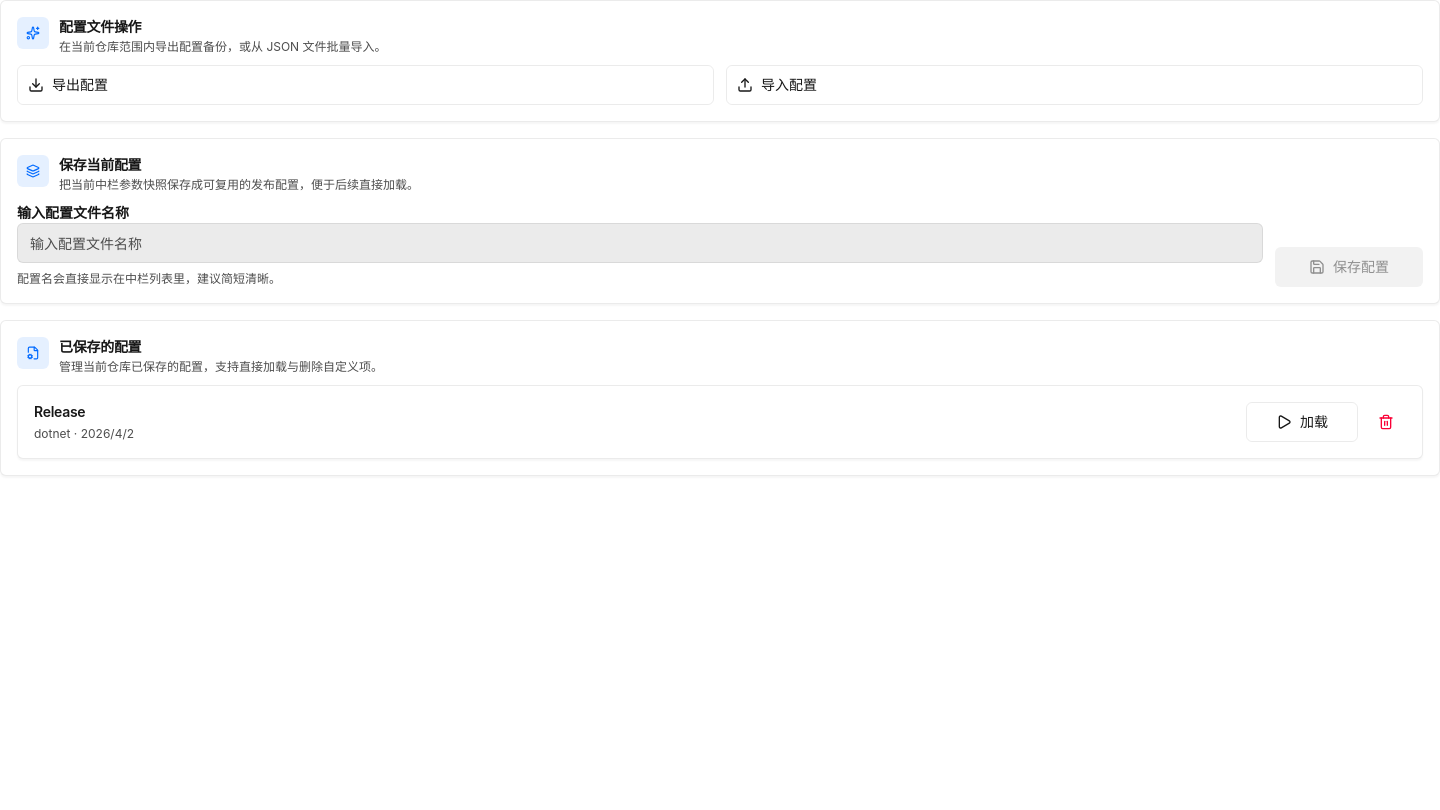
ConfigManagementContent › 删除配置时先显示应用内确认对话框，取消不删除，确认后才删除
The image size is (1440, 810).
Click the button named "删除配置: Release": (1386, 422) [1366,402,1406,442]
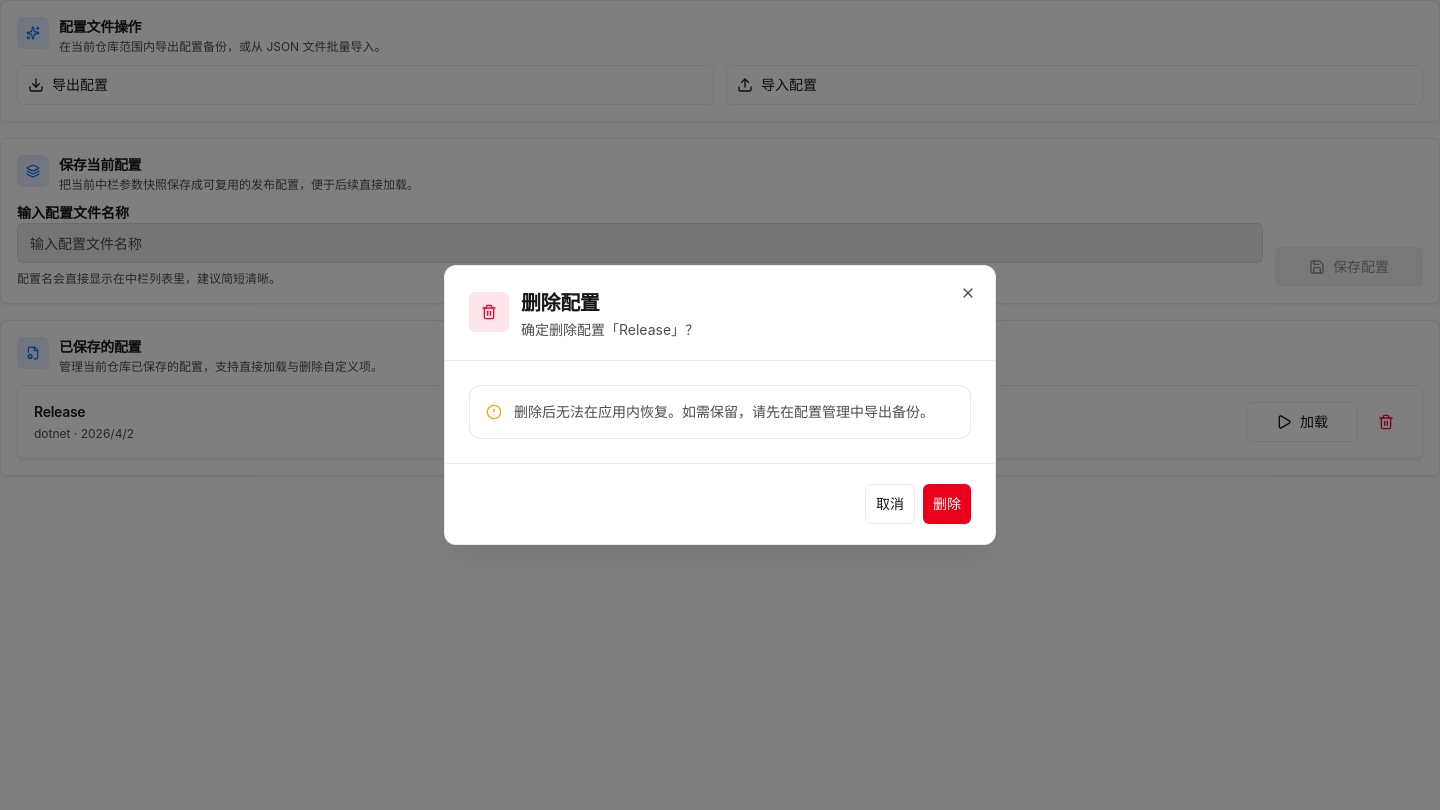
Expected: the text "确定删除配置「Release」？" is shown, [521,321,699,338]
Click the button "取消": (890, 504) [865,484,915,524]
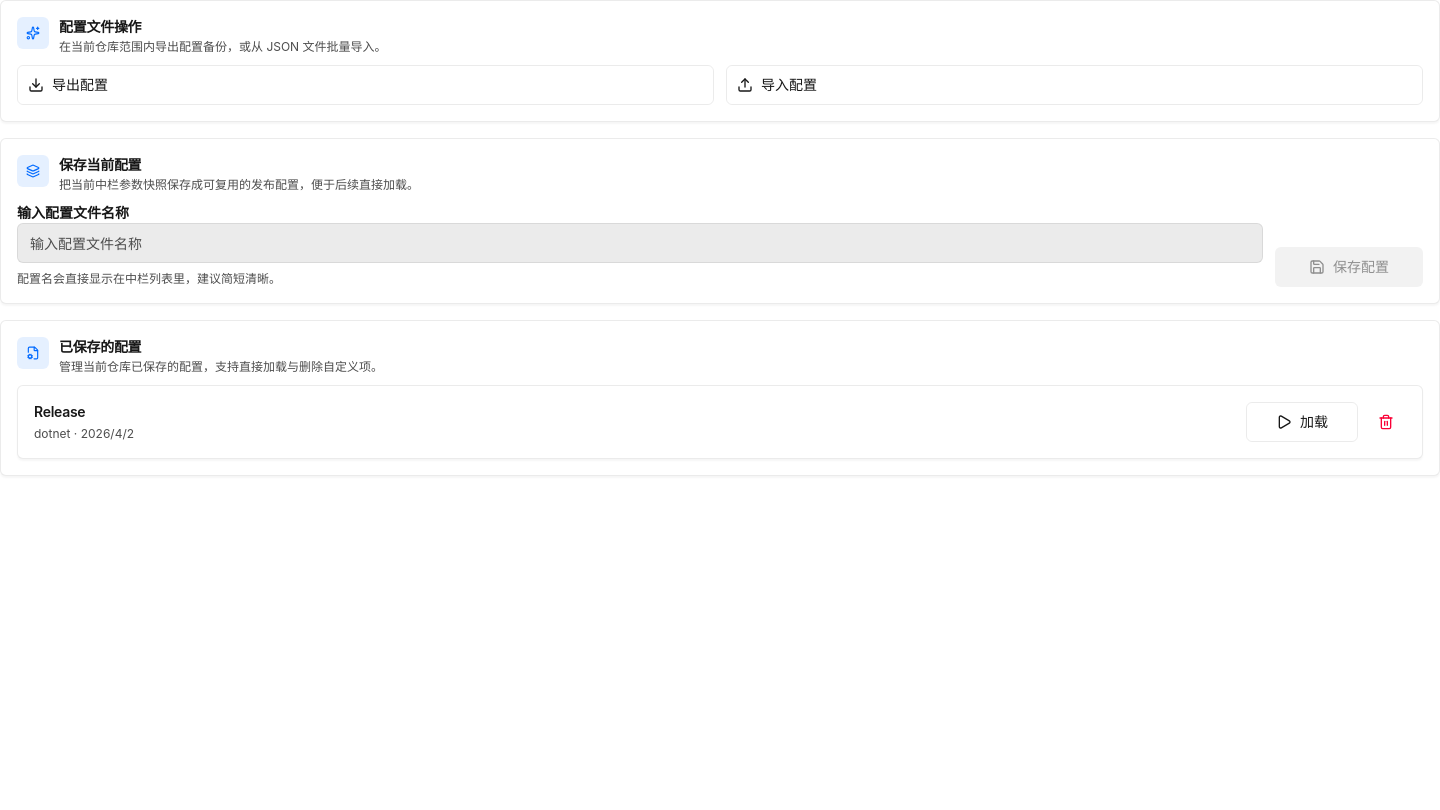
Expected: the heading "删除配置" is gone
Click the button named "删除配置: Release": (1386, 422) [1366,402,1406,442]
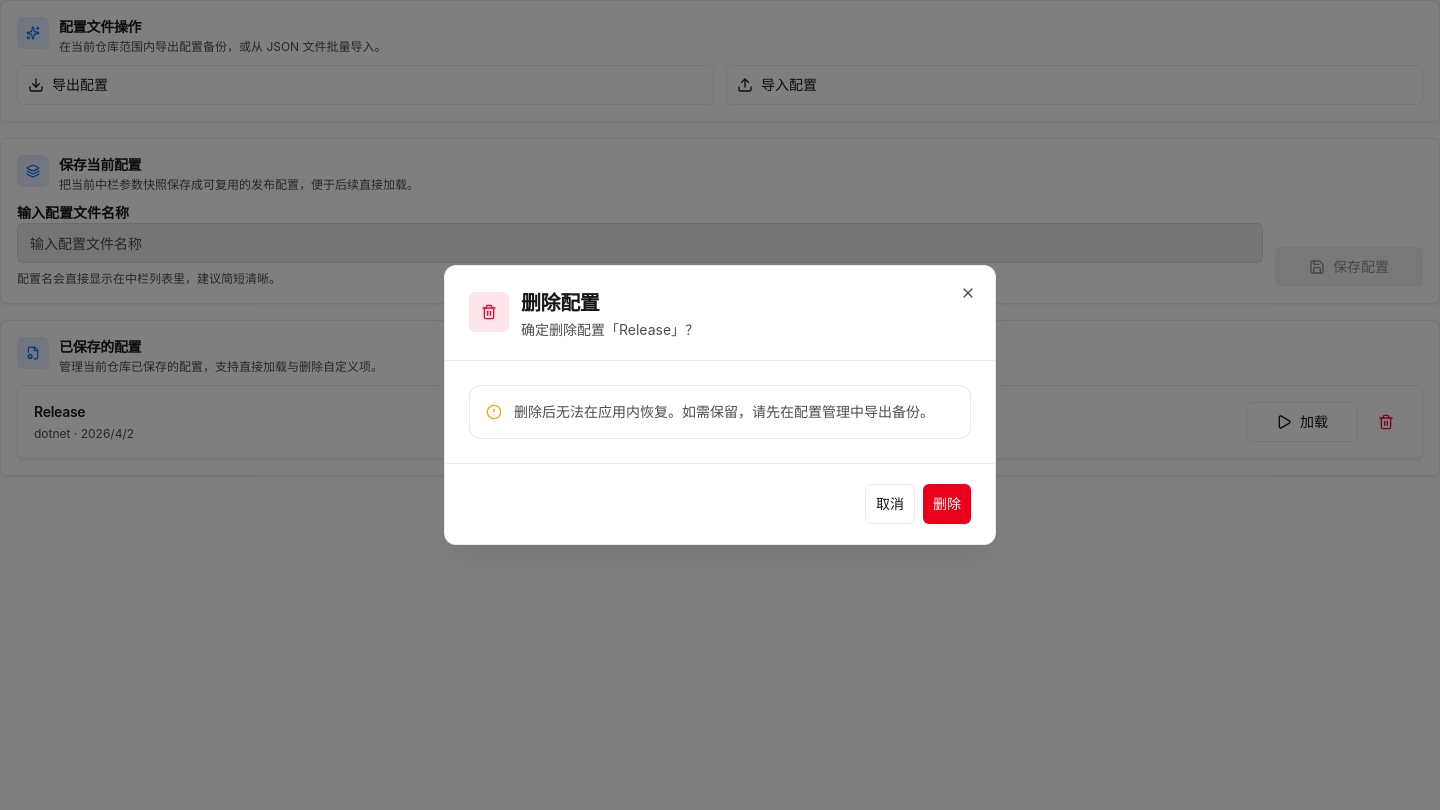
Click the button "删除": (947, 504) [923,484,971,524]
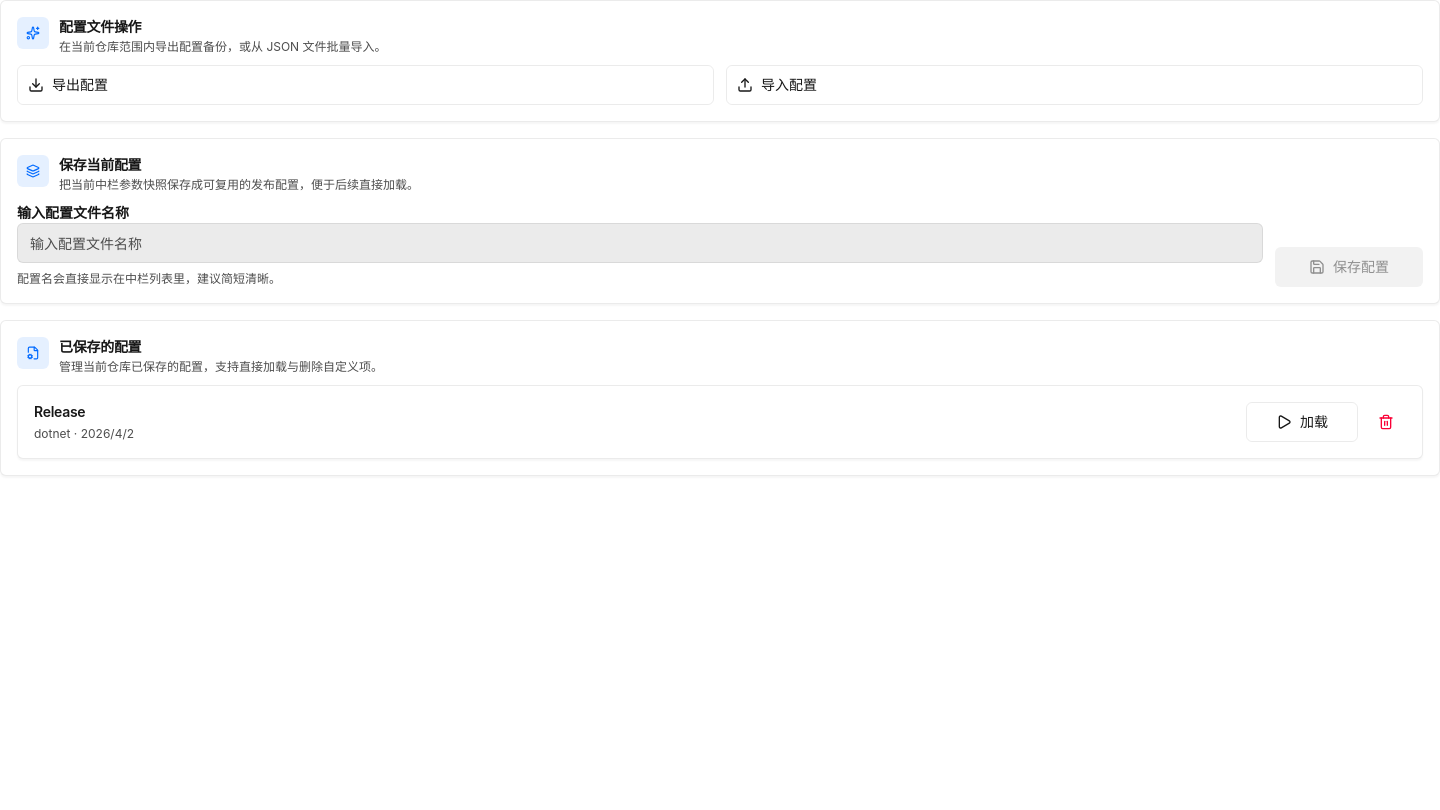
Expected: the heading "删除配置" is gone
